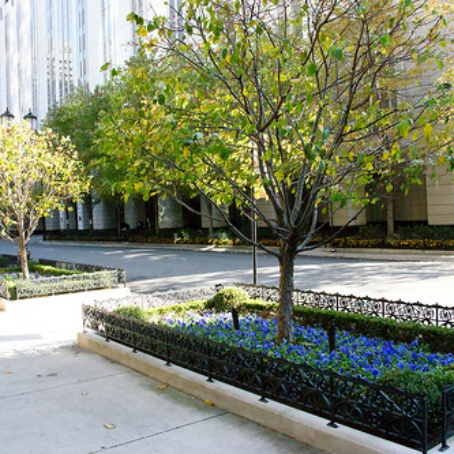tree: (84, 1, 454, 363), (1, 115, 78, 279)
